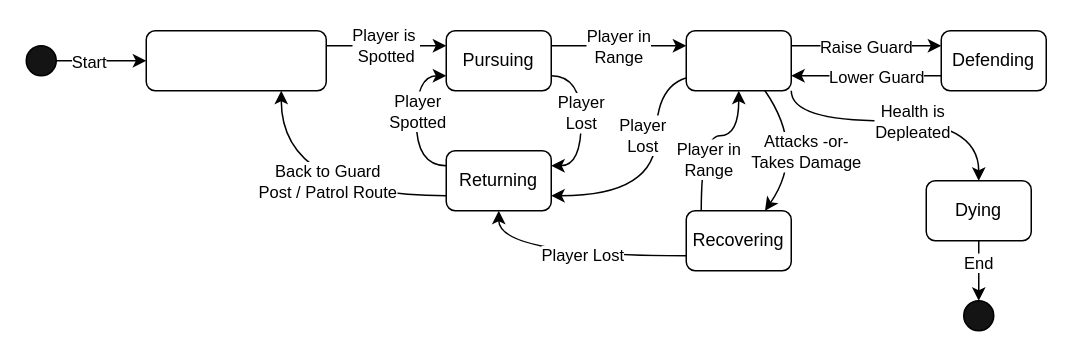
Some shapes in this 1073 by 357 pixel diagram are drawn without their labels. Here are the shapes that lost their labels. From the top down, the centre of each, then its label:
At point (235, 60): "Guarding / Patroling".
At point (738, 60): "Engaged with Player".
